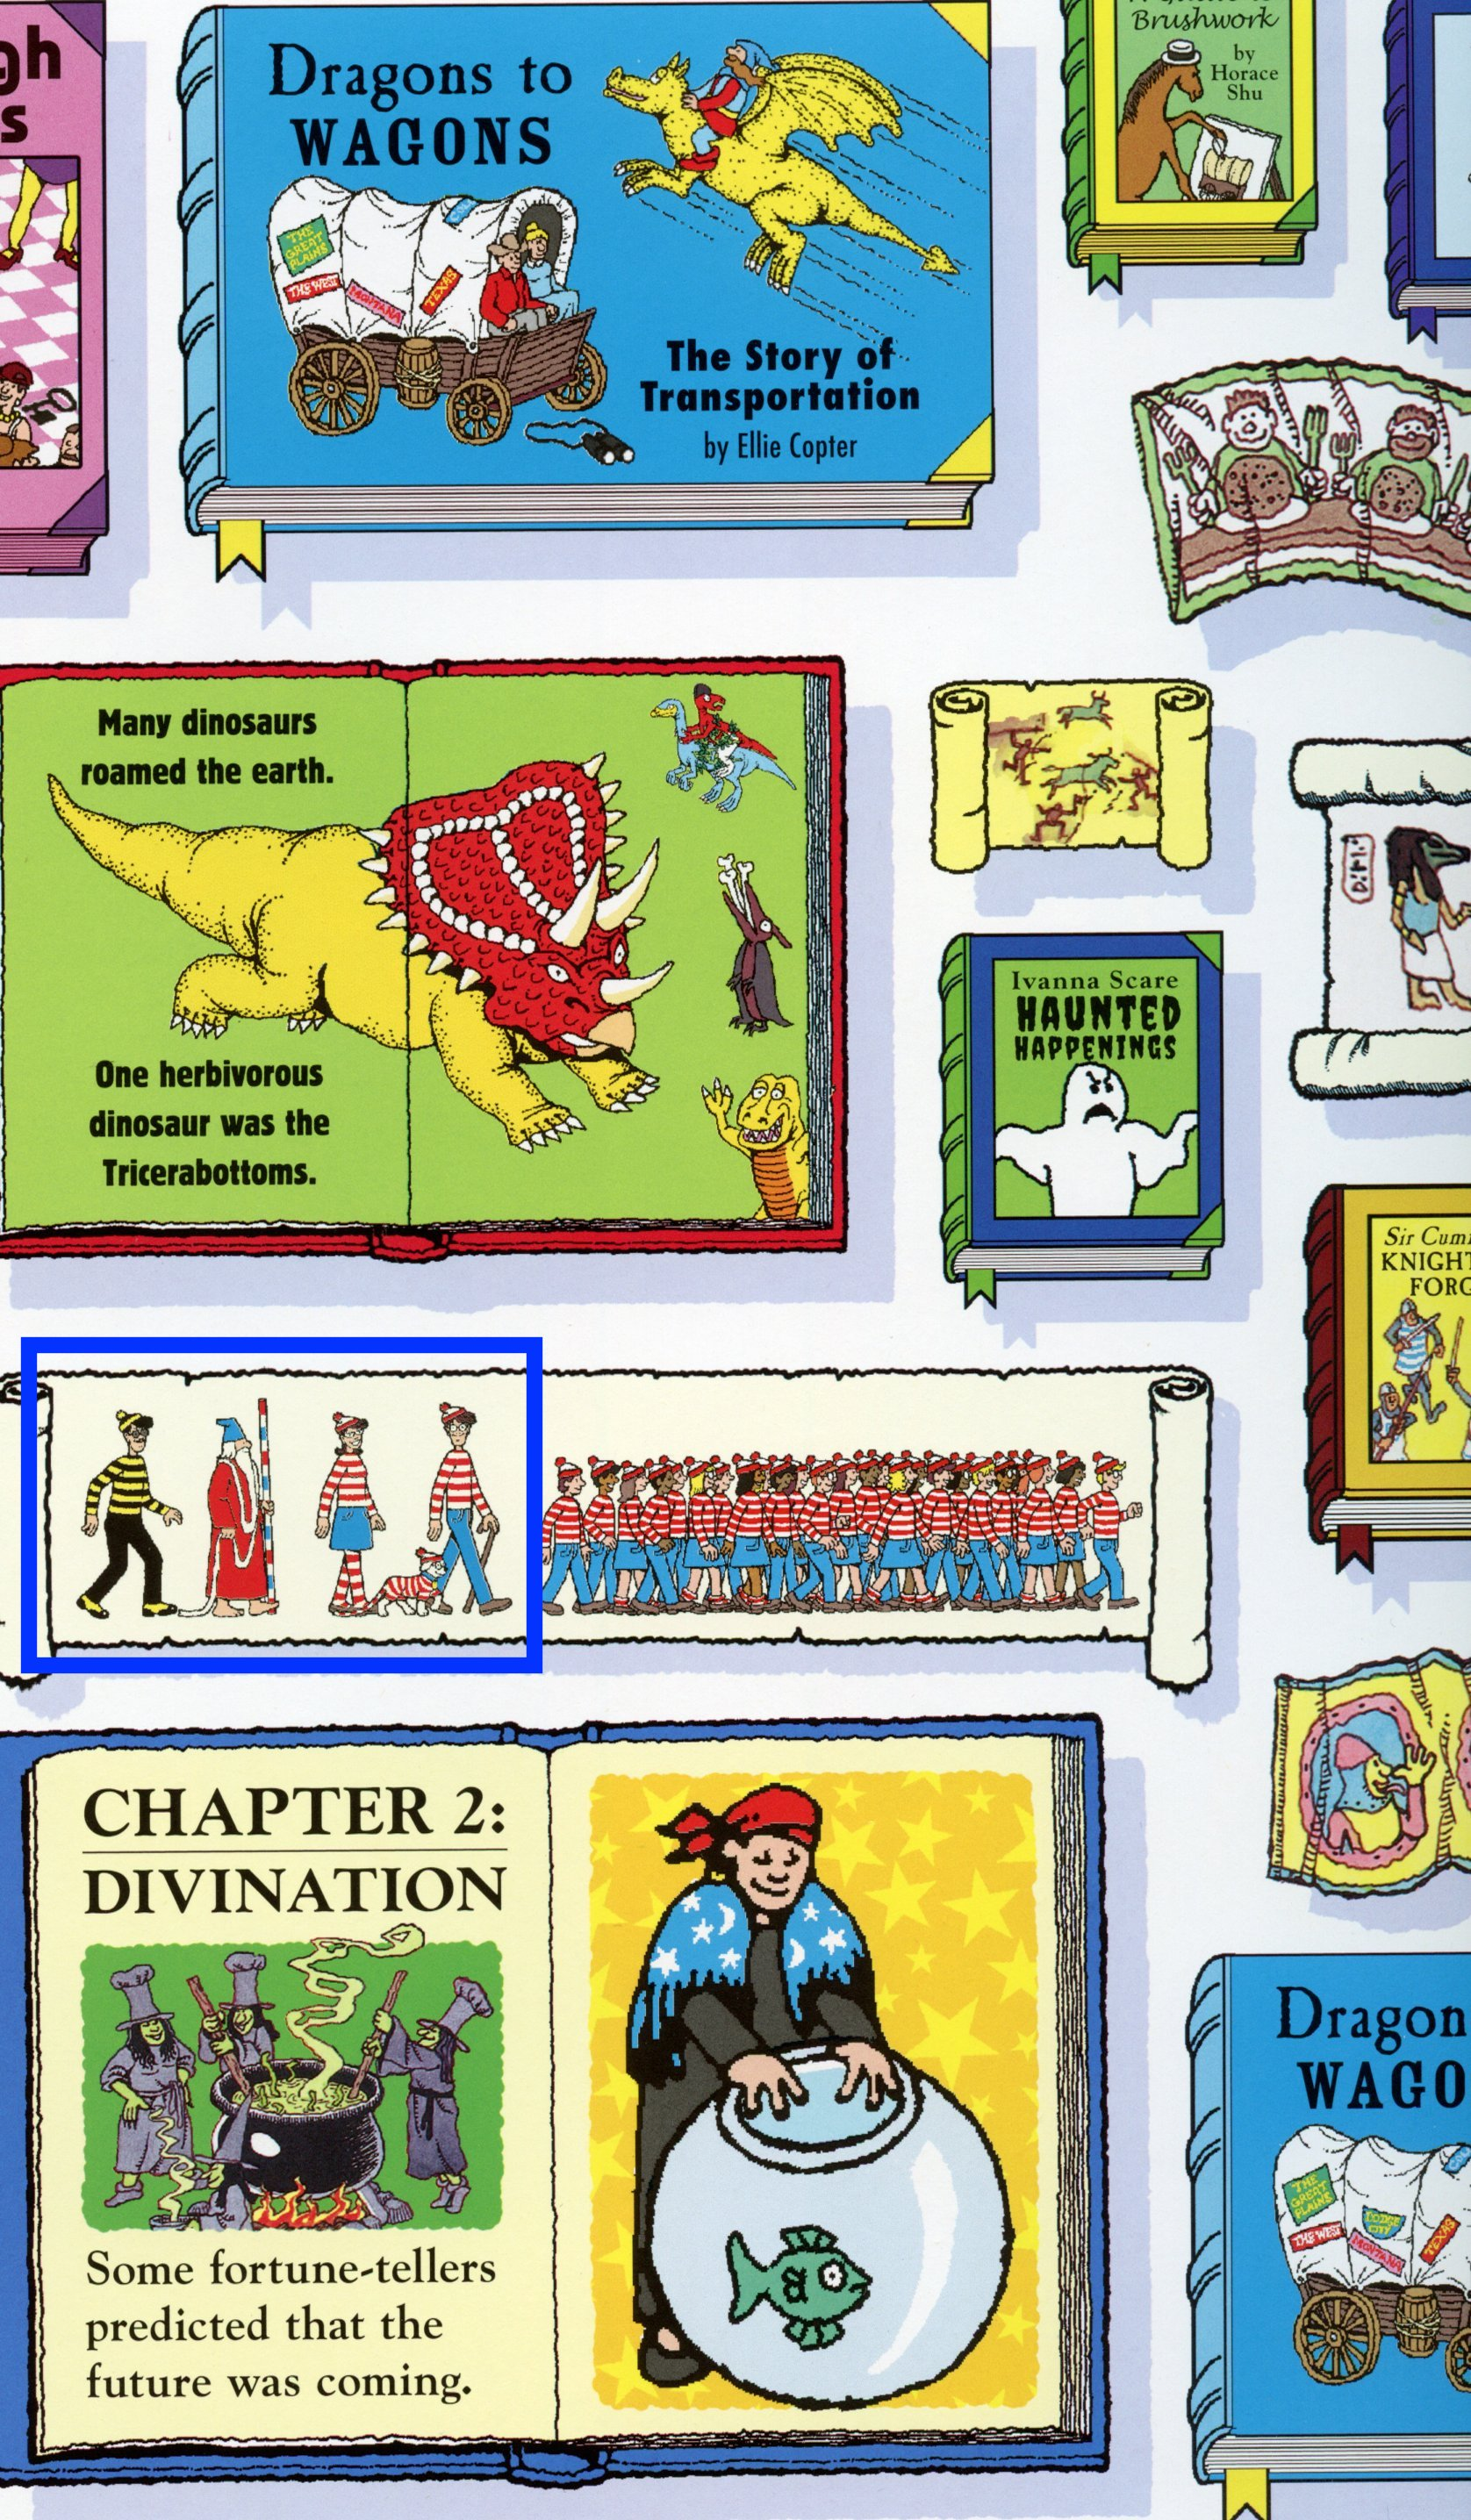odlaw: (30, 1340, 200, 1655)
waldo: (380, 1347, 553, 1664)
